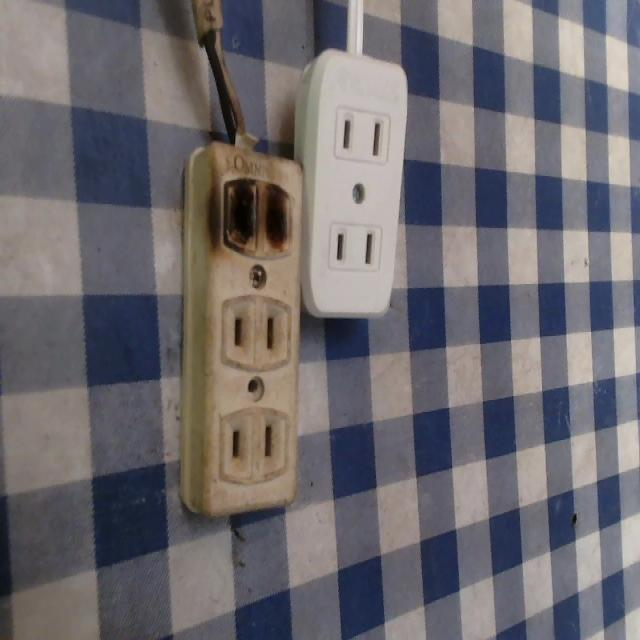-: (208, 161, 296, 256)
